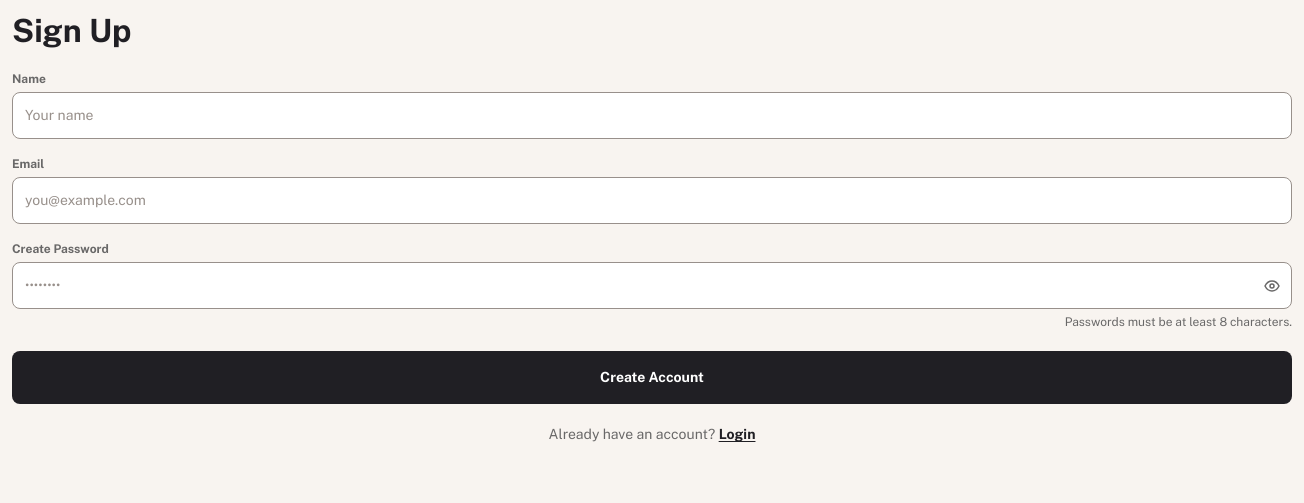
Test case: SignUpForm › validation › hides helper text and shows error when password is too short
In the password field labelled "Create Password": (652, 286) [12,262,1292,309], type "short"
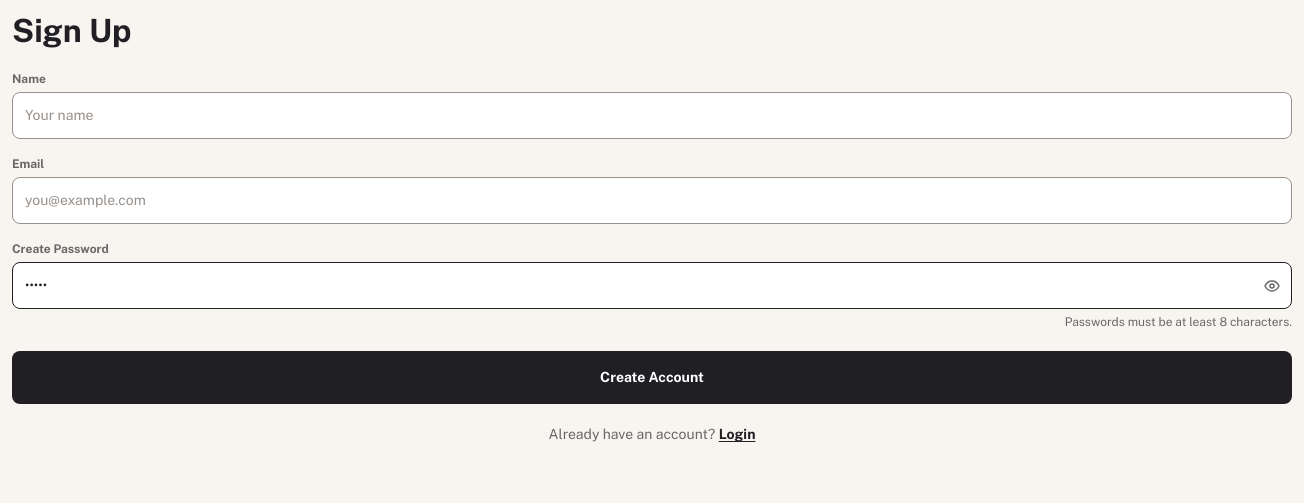
Click the button "Create Account": (652, 378) [12,351,1292,404]
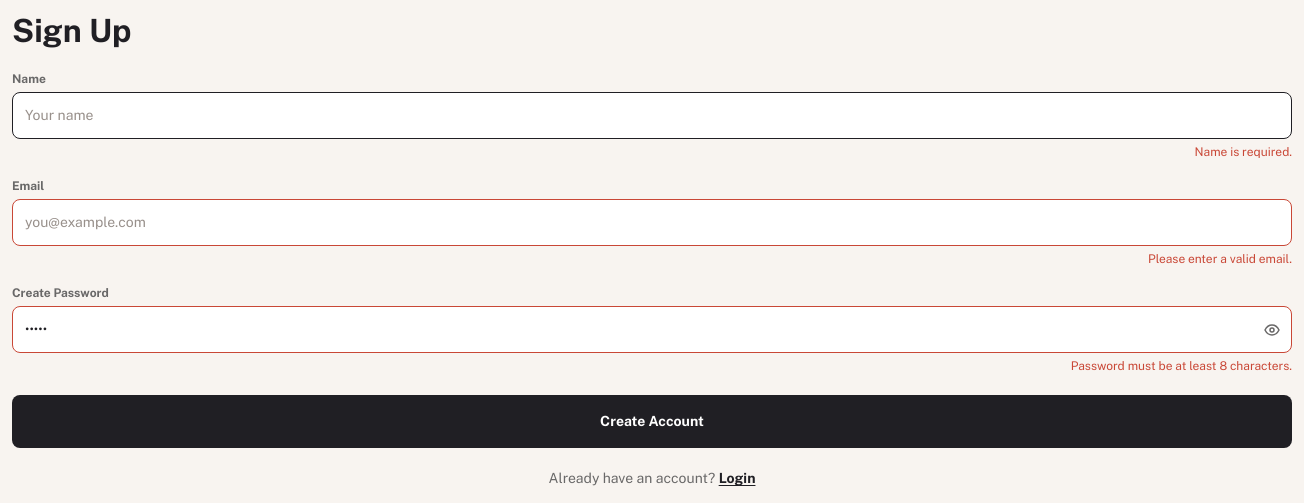
Check: the text "Password must be at least 8 characters." is shown, box [1071,359,1292,373]
Check: the text "Passwords must be at least 8 characters." is gone
